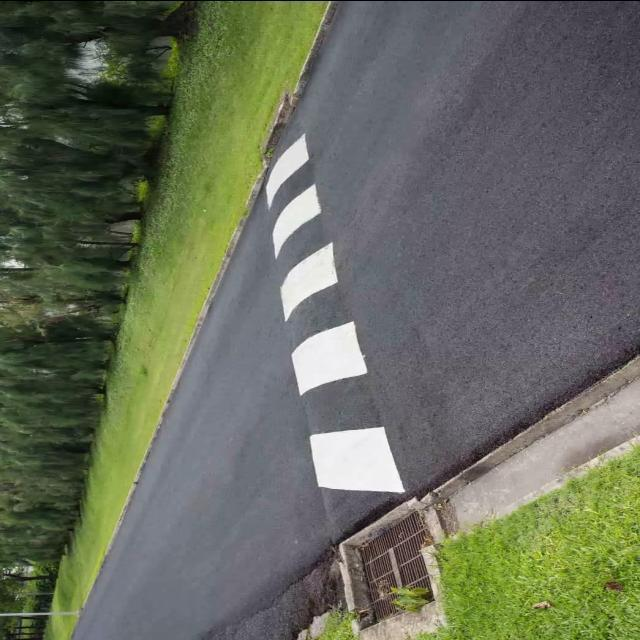speedbreaker: (263, 127, 397, 524)
